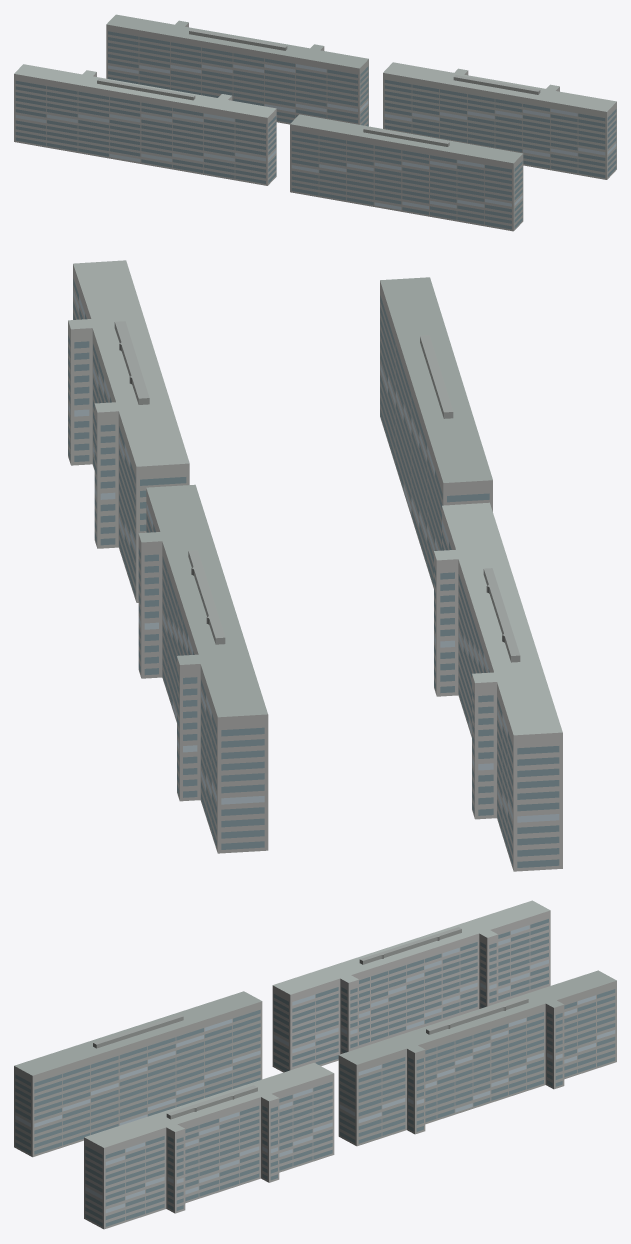
Rendered from apt-a15001016.glb.
The picture shows the model from 3 angles, top to bottom: view 1: azimuth 30°, elevation 25°; view 2: azimuth 150°, elevation 25°; view 3: azimuth 270°, elevation 25°; orthographic projection. The views are drawn at different scales.
Parts seen in each view (by area): view 1: apt-a15001016; view 2: apt-a15001016; view 3: apt-a15001016.
Part boxes in pixels (bbox=[...]): apt-a15001016: bbox=[14, 14, 616, 231]; apt-a15001016: bbox=[68, 260, 562, 871]; apt-a15001016: bbox=[14, 900, 616, 1229].
Bounding box in the file's own units: 224 × 36 × 230.
